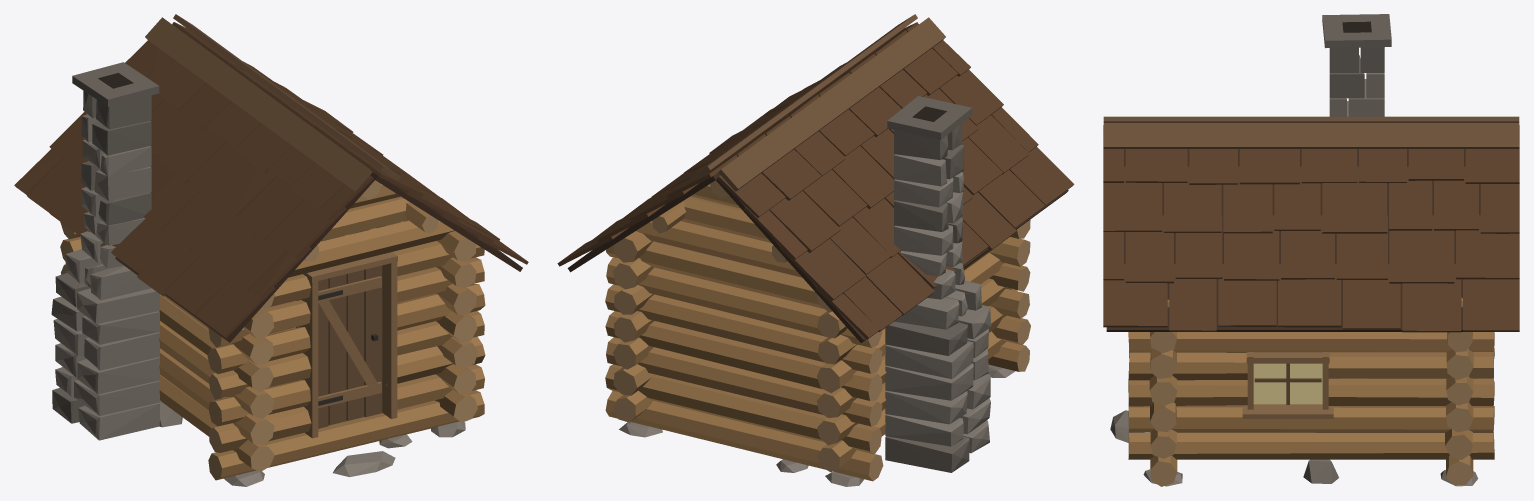
File: cabin.glb
3 renders of one model, left to right at view 1: azimuth 30°, elevation 25°; view 2: azimuth 150°, elevation 25°; view 3: azimuth 270°, elevation 25°, orthographic.
Visible parts, largest first — view 1: roof, chimney, door, sill, gables, course_2, course_1, course_3, course_4, course_5, course_6; view 2: roof, chimney, sill, course_3, course_2, course_1, course_4, course_5, gables, course_6; view 3: roof, sill, course_1, course_4, course_3, course_2, chimney, window, course_5.
Part boxes in pixels (box(x1,y1,x2,y2)): roof: box(14, 14, 528, 342); chimney: box(51, 62, 159, 440); door: box(296, 252, 397, 438); sill: box(159, 301, 484, 486); gables: box(288, 180, 454, 277); course_2: box(158, 241, 485, 426); course_1: box(159, 348, 484, 452); course_3: box(61, 234, 484, 399); course_4: box(60, 228, 485, 373); course_5: box(60, 221, 484, 347); course_6: box(258, 220, 484, 312); roof: box(557, 14, 1074, 342); chimney: box(885, 96, 991, 472); sill: box(605, 331, 1029, 486); course_3: box(605, 252, 1030, 400); course_2: box(606, 278, 1029, 426); course_1: box(605, 289, 1030, 454); course_4: box(605, 237, 1030, 373); course_5: box(606, 219, 1030, 347); gables: box(636, 180, 801, 277); course_6: box(606, 231, 831, 312); roof: box(1103, 116, 1519, 332); sill: box(1110, 347, 1494, 486); course_1: box(1128, 406, 1494, 459); course_4: box(1128, 332, 1494, 379); course_3: box(1128, 352, 1493, 406); course_2: box(1128, 379, 1494, 432); chimney: box(1322, 14, 1391, 116); window: box(1242, 352, 1333, 418); course_5: box(1150, 332, 1472, 353).
Size of the model in its own units: 3.82 by 3.65 by 4.1.
